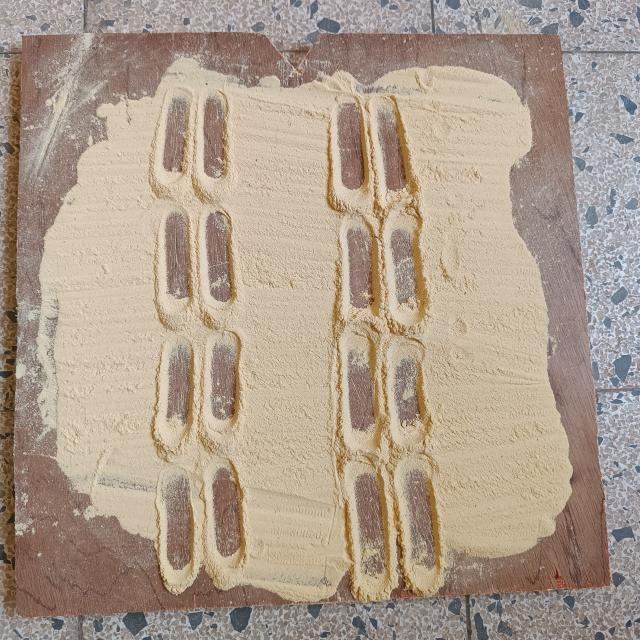double: (339, 458, 450, 602), (149, 454, 254, 596), (335, 326, 434, 460), (148, 203, 246, 329), (326, 90, 424, 216), (152, 326, 245, 454), (337, 213, 431, 330), (146, 85, 237, 204)
